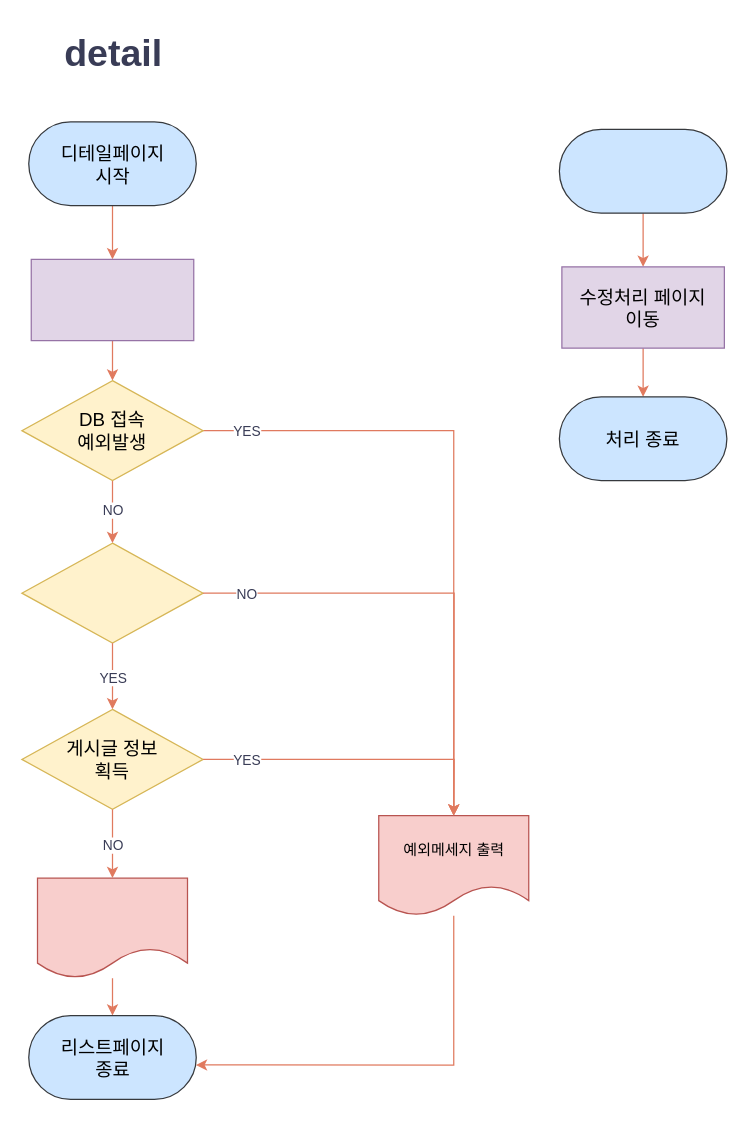
This 749x1121 diagram has some shape labels left out. Here are the shapes that lost their labels. From the top down, the box of each, then its label:
(558, 128, 727, 213): 수정버튼 출력
(30, 258, 194, 341): DB 접속
(21, 542, 203, 643): 파라미터 확득
(36, 877, 188, 978): 화면에 출력
